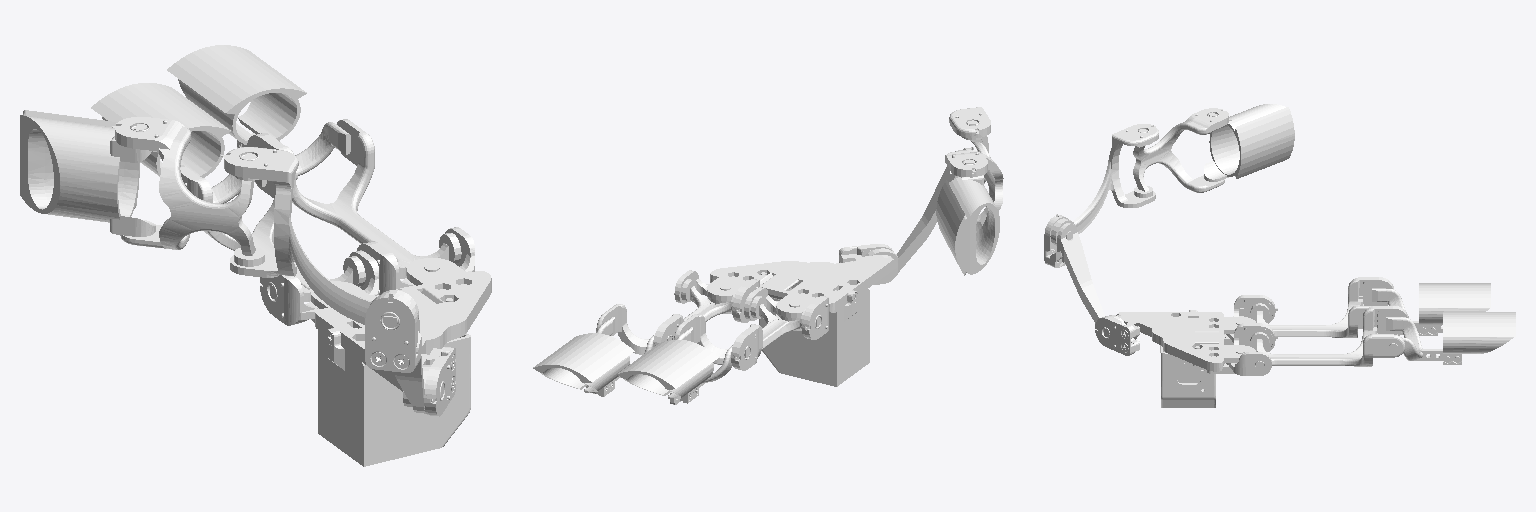
robot.urdf — maniexo:
<?xml version="1.0" encoding="utf-8"?>
<!-- This URDF was automatically created by SolidWorks to URDF Exporter! Originally created by [author] ([email redacted]) 
     Commit Version: 1.6.0-4-g7f85cfe  Build Version: 1.6.7995.38578
     For more information, please see http://wiki.ros.org/sw_urdf_exporter -->
<robot
  name="maniexo">
  <link
    name="base_link">
    <inertial>
      <origin
        xyz="-0.00599776174308269 0.00982304377481134 -0.00307718108199094"
        rpy="0 0 0" />
      <mass
        value="0.00786789396969289" />
      <inertia
        ixx="1.18148777556037E-06"
        ixy="-5.17570735213473E-07"
        ixz="-1.84149644255169E-08"
        iyy="1.07373972694154E-06"
        iyz="-4.87070783916354E-08"
        izz="2.19343511012124E-06" />
    </inertial>
    <visual>
      <origin
        xyz="0 0 0"
        rpy="0 0 0" />
      <geometry>
        <mesh
          filename="package://manicapture/urdf/meshes/base_link.STL" />
      </geometry>
      <material
        name="">
        <color
          rgba="1 1 1 1" />
      </material>
    </visual>
    <collision>
      <origin
        xyz="0 0 0"
        rpy="0 0 0" />
      <geometry>
        <mesh
          filename="package://manicapture/urdf/meshes/base_link.STL" />
      </geometry>
    </collision>
  </link>
  <link
    name="link_11">
    <inertial>
      <origin
        xyz="-0.0194378840790386 0.0202894450824176 0.00173395527056601"
        rpy="0 0 0" />
      <mass
        value="0.00223467202473525" />
      <inertia
        ixx="2.29258188789575E-07"
        ixy="2.14099610612929E-07"
        ixz="-4.92537126120248E-11"
        iyy="2.84513103815603E-07"
        iyz="-1.50010632702504E-10"
        izz="4.77511912399258E-07" />
    </inertial>
    <visual>
      <origin
        xyz="0 0 0"
        rpy="0 0 0" />
      <geometry>
        <mesh
          filename="package://manicapture/urdf/meshes/link_11.STL" />
      </geometry>
      <material
        name="">
        <color
          rgba="1 1 1 1" />
      </material>
    </visual>
    <collision>
      <origin
        xyz="0 0 0"
        rpy="0 0 0" />
      <geometry>
        <mesh
          filename="package://manicapture/urdf/meshes/link_11.STL" />
      </geometry>
    </collision>
  </link>
  <joint
    name="j11"
    type="revolute">
    <origin
      xyz="-0.01708 -0.021606 -0.005"
      rpy="0 1.5708 2.3562" />
    <parent
      link="base_link" />
    <child
      link="link_11" />
    <axis
      xyz="0 0 1" />
    <limit
      lower="-1.57"
      upper="1.57"
      effort="0"
      velocity="0" />
  </joint>
  <link
    name="link_12">
    <inertial>
      <origin
        xyz="0.0239347115479488 0.0153927042255716 0.00503368058218513"
        rpy="0 0 0" />
      <mass
        value="0.00172486845359109" />
      <inertia
        ixx="2.96568934534256E-07"
        ixy="-1.95167710457615E-07"
        ixz="-5.36509543954245E-08"
        iyy="3.59909020664556E-07"
        iyz="-3.09062123925734E-08"
        izz="6.0692450558821E-07" />
    </inertial>
    <visual>
      <origin
        xyz="0 0 0"
        rpy="0 0 0" />
      <geometry>
        <mesh
          filename="package://manicapture/urdf/meshes/link_12.STL" />
      </geometry>
      <material
        name="">
        <color
          rgba="1 1 1 1" />
      </material>
    </visual>
    <collision>
      <origin
        xyz="0 0 0"
        rpy="0 0 0" />
      <geometry>
        <mesh
          filename="package://manicapture/urdf/meshes/link_12.STL" />
      </geometry>
    </collision>
  </link>
  <joint
    name="j12"
    type="revolute">
    <origin
      xyz="-0.034337 0.0312 0.0017"
      rpy="-1.5708 -1.5708 3.1416" />
    <parent
      link="link_11" />
    <child
      link="link_12" />
    <axis
      xyz="0 0 1" />
    <limit
      lower="-1.57"
      upper="1.57"
      effort="0"
      velocity="0" />
  </joint>
  <link
    name="link_13">
    <inertial>
      <origin
        xyz="-0.00275598091844045 0.0171013082982554 0.0114897991653802"
        rpy="0 0 0" />
      <mass
        value="0.0021577823256147" />
      <inertia
        ixx="4.36819893192054E-07"
        ixy="7.96040455945356E-08"
        ixz="-1.70706905974473E-09"
        iyy="2.87788243442553E-07"
        iyz="1.13766383807353E-09"
        izz="3.00034675003969E-07" />
    </inertial>
    <visual>
      <origin
        xyz="0 0 0"
        rpy="0 0 0" />
      <geometry>
        <mesh
          filename="package://manicapture/urdf/meshes/link_13.STL" />
      </geometry>
      <material
        name="">
        <color
          rgba="1 1 1 1" />
      </material>
    </visual>
    <collision>
      <origin
        xyz="0 0 0"
        rpy="0 0 0" />
      <geometry>
        <mesh
          filename="package://manicapture/urdf/meshes/link_13.STL" />
      </geometry>
    </collision>
  </link>
  <joint
    name="j13"
    type="revolute">
    <origin
      xyz="0.04 0.0332 0.0087"
      rpy="1.5708 1.5708 0" />
    <parent
      link="link_12" />
    <child
      link="link_13" />
    <axis
      xyz="0 0 1" />
    <limit
      lower="-1.57"
      upper="1.57"
      effort="0"
      velocity="0" />
  </joint>
  <link
    name="link_14">
    <inertial>
      <origin
        xyz="-0.00562177803999205 0.0182335719063677 0.0129931481612673"
        rpy="0 0 0" />
      <mass
        value="0.00418925270581729" />
      <inertia
        ixx="6.39077403968338E-07"
        ixy="1.2065808877892E-07"
        ixz="1.62186935001399E-10"
        iyy="4.22708984113048E-07"
        iyz="-6.88615297065388E-10"
        izz="5.31347222537241E-07" />
    </inertial>
    <visual>
      <origin
        xyz="0 0 0"
        rpy="0 0 0" />
      <geometry>
        <mesh
          filename="package://manicapture/urdf/meshes/link_14.STL" />
      </geometry>
      <material
        name="">
        <color
          rgba="1 1 1 1" />
      </material>
    </visual>
    <collision>
      <origin
        xyz="0 0 0"
        rpy="0 0 0" />
      <geometry>
        <mesh
          filename="package://manicapture/urdf/meshes/link_14.STL" />
      </geometry>
    </collision>
  </link>
  <joint
    name="j14"
    type="revolute">
    <origin
      xyz="-0.0095575 0.0312 0"
      rpy="0 0 0" />
    <parent
      link="link_13" />
    <child
      link="link_14" />
    <axis
      xyz="0 0 1" />
    <limit
      lower="-1.57"
      upper="1.57"
      effort="0"
      velocity="0" />
  </joint>
  <link
    name="link_21">
    <inertial>
      <origin
        xyz="-0.00292555609180222 0.00333049704025469 0.00300313692306352"
        rpy="0 0 0" />
      <mass
        value="0.00111180928334376" />
      <inertia
        ixx="3.30194238642245E-08"
        ixy="-8.35318642205584E-10"
        ixz="5.55623141654556E-10"
        iyy="9.10482440625475E-08"
        iyz="-4.083996436177E-09"
        izz="1.0273967619007E-07" />
    </inertial>
    <visual>
      <origin
        xyz="0 0 0"
        rpy="0 0 0" />
      <geometry>
        <mesh
          filename="package://manicapture/urdf/meshes/link_21.STL" />
      </geometry>
      <material
        name="">
        <color
          rgba="1 1 1 1" />
      </material>
    </visual>
    <collision>
      <origin
        xyz="0 0 0"
        rpy="0 0 0" />
      <geometry>
        <mesh
          filename="package://manicapture/urdf/meshes/link_21.STL" />
      </geometry>
    </collision>
  </link>
  <joint
    name="j21"
    type="revolute">
    <origin
      xyz="-0.014 0.032 -0.0042"
      rpy="0 0 0" />
    <parent
      link="base_link" />
    <child
      link="link_21" />
    <axis
      xyz="0 0 1" />
    <limit
      lower="-1"
      upper="1"
      effort="0"
      velocity="0" />
  </joint>
  <link
    name="link_22">
    <inertial>
      <origin
        xyz="-0.00167183483203976 0.0289801523532644 0.00988583419271647"
        rpy="0 0 0" />
      <mass
        value="0.0023443539039227" />
      <inertia
        ixx="7.95922863072503E-07"
        ixy="1.16161787663554E-07"
        ixz="-1.14266665074889E-09"
        iyy="2.18170957112326E-07"
        iyz="6.25951158024536E-10"
        izz="7.09675987536077E-07" />
    </inertial>
    <visual>
      <origin
        xyz="0 0 0"
        rpy="0 0 0" />
      <geometry>
        <mesh
          filename="package://manicapture/urdf/meshes/link_22.STL" />
      </geometry>
      <material
        name="">
        <color
          rgba="1 1 1 1" />
      </material>
    </visual>
    <collision>
      <origin
        xyz="0 0 0"
        rpy="0 0 0" />
      <geometry>
        <mesh
          filename="package://manicapture/urdf/meshes/link_22.STL" />
      </geometry>
    </collision>
  </link>
  <joint
    name="j22"
    type="revolute">
    <origin
      xyz="-0.0112 0.008 0.0042"
      rpy="0 1.5708 0" />
    <parent
      link="link_21" />
    <child
      link="link_22" />
    <axis
      xyz="0 0 1" />
    <limit
      lower="-1"
      upper="1.57"
      effort="0"
      velocity="0" />
  </joint>
  <link
    name="link_23">
    <inertial>
      <origin
        xyz="0.000268249471579724 0.0233707625573986 0.0109668757148701"
        rpy="0 0 0" />
      <mass
        value="0.00274469075954858" />
      <inertia
        ixx="2.91717789421685E-07"
        ixy="1.76410784171905E-08"
        ixz="5.82645518496106E-09"
        iyy="1.93940345649574E-07"
        iyz="8.3699971964392E-09"
        izz="2.25572137250595E-07" />
    </inertial>
    <visual>
      <origin
        xyz="0 0 0"
        rpy="0 0 0" />
      <geometry>
        <mesh
          filename="package://manicapture/urdf/meshes/link_23.STL" />
      </geometry>
      <material
        name="">
        <color
          rgba="1 1 1 1" />
      </material>
    </visual>
    <collision>
      <origin
        xyz="0 0 0"
        rpy="0 0 0" />
      <geometry>
        <mesh
          filename="package://manicapture/urdf/meshes/link_23.STL" />
      </geometry>
    </collision>
  </link>
  <joint
    name="j23"
    type="revolute">
    <origin
      xyz="-0.0080705 0.0492 0.0002"
      rpy="0 0 0" />
    <parent
      link="link_22" />
    <child
      link="link_23" />
    <axis
      xyz="0 0 1" />
    <limit
      lower="-1"
      upper="1.57"
      effort="0"
      velocity="0" />
  </joint>
  <link
    name="link_31">
    <inertial>
      <origin
        xyz="-0.00292555609180223 0.00333049704025472 0.00300313692306353"
        rpy="0 0 0" />
      <mass
        value="0.00111180928334376" />
      <inertia
        ixx="3.30194238642245E-08"
        ixy="-8.35318642205653E-10"
        ixz="5.55623141654568E-10"
        iyy="9.10482440625474E-08"
        iyz="-4.08399643617702E-09"
        izz="1.02739676190069E-07" />
    </inertial>
    <visual>
      <origin
        xyz="0 0 0"
        rpy="0 0 0" />
      <geometry>
        <mesh
          filename="package://manicapture/urdf/meshes/link_31.STL" />
      </geometry>
      <material
        name="">
        <color
          rgba="1 1 1 1" />
      </material>
    </visual>
    <collision>
      <origin
        xyz="0 0 0"
        rpy="0 0 0" />
      <geometry>
        <mesh
          filename="package://manicapture/urdf/meshes/link_31.STL" />
      </geometry>
    </collision>
  </link>
  <joint
    name="j31"
    type="revolute">
    <origin
      xyz="0.014 0.032 -0.0042"
      rpy="0 0 0" />
    <parent
      link="base_link" />
    <child
      link="link_31" />
    <axis
      xyz="0 0 1" />
    <limit
      lower="-1"
      upper="1"
      effort="0"
      velocity="0" />
  </joint>
  <link
    name="link_32">
    <inertial>
      <origin
        xyz="-0.00141507332656362 0.0324623732696431 0.00990227629547053"
        rpy="0 0 0" />
      <mass
        value="0.00243138055410109" />
      <inertia
        ixx="1.01380603156866E-06"
        ixy="1.31826058001882E-07"
        ixz="-1.69906134718064E-09"
        iyy="2.17796422212826E-07"
        iyz="2.55512699184075E-09"
        izz="9.29922192862984E-07" />
    </inertial>
    <visual>
      <origin
        xyz="0 0 0"
        rpy="0 0 0" />
      <geometry>
        <mesh
          filename="package://manicapture/urdf/meshes/link_32.STL" />
      </geometry>
      <material
        name="">
        <color
          rgba="1 1 1 1" />
      </material>
    </visual>
    <collision>
      <origin
        xyz="0 0 0"
        rpy="0 0 0" />
      <geometry>
        <mesh
          filename="package://manicapture/urdf/meshes/link_32.STL" />
      </geometry>
    </collision>
  </link>
  <joint
    name="j32"
    type="revolute">
    <origin
      xyz="-0.0112 0.008 0.0042"
      rpy="0 1.5708 0" />
    <parent
      link="link_31" />
    <child
      link="link_32" />
    <axis
      xyz="0 0 1" />
    <limit
      lower="-1"
      upper="1.57"
      effort="0"
      velocity="0" />
  </joint>
  <link
    name="link_33">
    <inertial>
      <origin
        xyz="0.000268246023296149 0.0263032062176622 0.0109668796631391"
        rpy="0 0 0" />
      <mass
        value="0.00274468950458302" />
      <inertia
        ixx="2.91717654278615E-07"
        ixy="1.76410644964327E-08"
        ixz="5.82642098607415E-09"
        iyy="1.93940254876873E-07"
        iyz="8.3700003599881E-09"
        izz="2.25572184978187E-07" />
    </inertial>
    <visual>
      <origin
        xyz="0 0 0"
        rpy="0 0 0" />
      <geometry>
        <mesh
          filename="package://manicapture/urdf/meshes/link_33.STL" />
      </geometry>
      <material
        name="">
        <color
          rgba="1 1 1 1" />
      </material>
    </visual>
    <collision>
      <origin
        xyz="0 0 0"
        rpy="0 0 0" />
      <geometry>
        <mesh
          filename="package://manicapture/urdf/meshes/link_33.STL" />
      </geometry>
    </collision>
  </link>
  <joint
    name="j33"
    type="revolute">
    <origin
      xyz="-0.0080581 0.0552 0.0002"
      rpy="0 0 0" />
    <parent
      link="link_32" />
    <child
      link="link_33" />
    <axis
      xyz="0 0 1" />
    <limit
      lower="-1"
      upper="1.57"
      effort="0"
      velocity="0" />
  </joint>
  <link
    name="link_tag">
    <inertial>
      <origin
        xyz="-0.00347432172032466 -0.000953506890492763 -0.0114650613193691"
        rpy="0 0 0" />
      <mass
        value="0.00355582565339228" />
      <inertia
        ixx="5.48518231487005E-07"
        ixy="-4.12704843061412E-09"
        ixz="2.13620018325141E-09"
        iyy="7.31585644009308E-07"
        iyz="3.05284730176406E-09"
        izz="7.55988644344329E-07" />
    </inertial>
    <visual>
      <origin
        xyz="0 0 0"
        rpy="0 0 0" />
      <geometry>
        <mesh
          filename="package://manicapture/urdf/meshes/link_tag.STL" />
      </geometry>
      <material
        name="">
        <color
          rgba="1 1 1 1" />
      </material>
    </visual>
    <collision>
      <origin
        xyz="0 0 0"
        rpy="0 0 0" />
      <geometry>
        <mesh
          filename="package://manicapture/urdf/meshes/link_tag.STL" />
      </geometry>
    </collision>
  </link>
  <joint
    name="jtag"
    type="fixed">
    <origin
      xyz="-0.0135 -0.001 -0.0215"
      rpy="-1.5708 0 3.1416" />
    <parent
      link="base_link" />
    <child
      link="link_tag" />
    <axis
      xyz="0 0 0" />
  </joint>
</robot>

--- Render facts (derived) ---
3 views of the same robot in one strip: view 1: azimuth 30°, elevation 25°; view 2: azimuth 150°, elevation 25°; view 3: azimuth 270°, elevation 25° (orthographic).
Model maniexo with 12 links and 11 joints (10 revolute, 1 fixed), rooted at base_link, posed every joint at zero.
Links seen in each view (by area): view 1: link_14, link_tag, link_33, base_link, link_13, link_12, link_23, link_32, link_11, link_22, link_21, link_31; view 2: base_link, link_tag, link_14, link_23, link_33, link_22, link_32, link_13, link_11, link_21, link_31, link_12; view 3: base_link, link_14, link_33, link_32, link_23, link_13, link_12, link_22, link_tag, link_11, link_31, link_21.
Boxes of the visible links, box(x1,y1,x2,y2) form: link_14: box(20, 110, 155, 236); link_tag: box(318, 298, 470, 466); link_33: box(167, 45, 350, 179); base_link: box(311, 258, 491, 416); link_13: box(112, 117, 264, 266); link_12: box(221, 147, 418, 327); link_23: box(91, 83, 266, 203); link_32: box(247, 119, 461, 278); link_11: box(365, 291, 443, 413); link_22: box(180, 165, 365, 301); link_21: box(260, 250, 378, 325); link_31: box(357, 227, 474, 294); base_link: box(707, 244, 897, 330); link_tag: box(759, 272, 869, 386); link_14: box(936, 159, 999, 275); link_23: box(617, 327, 749, 404); link_33: box(533, 317, 671, 396); link_22: box(674, 296, 820, 370); link_32: box(596, 279, 735, 354); link_13: box(945, 120, 1003, 225); link_11: box(864, 147, 975, 275); link_21: box(744, 287, 828, 339); link_31: box(674, 270, 759, 322); link_12: box(949, 107, 990, 172); base_link: box(1095, 312, 1255, 373); link_14: box(1204, 104, 1294, 181); link_33: box(1386, 312, 1515, 364); link_32: box(1250, 306, 1408, 369); link_23: box(1372, 283, 1490, 335); link_13: box(1133, 108, 1228, 197); link_12: box(1050, 124, 1158, 245); link_22: box(1250, 277, 1393, 337); link_tag: box(1161, 310, 1215, 407); link_11: box(1044, 214, 1125, 336); link_31: box(1226, 323, 1277, 375); link_21: box(1226, 295, 1277, 342).
Bounding box of the posed robot: 0.123 × 0.1947 × 0.0989 m (x, y, z).
Meshes: 12 distinct files referenced, 12 mesh visuals loaded (12 binary STL).
